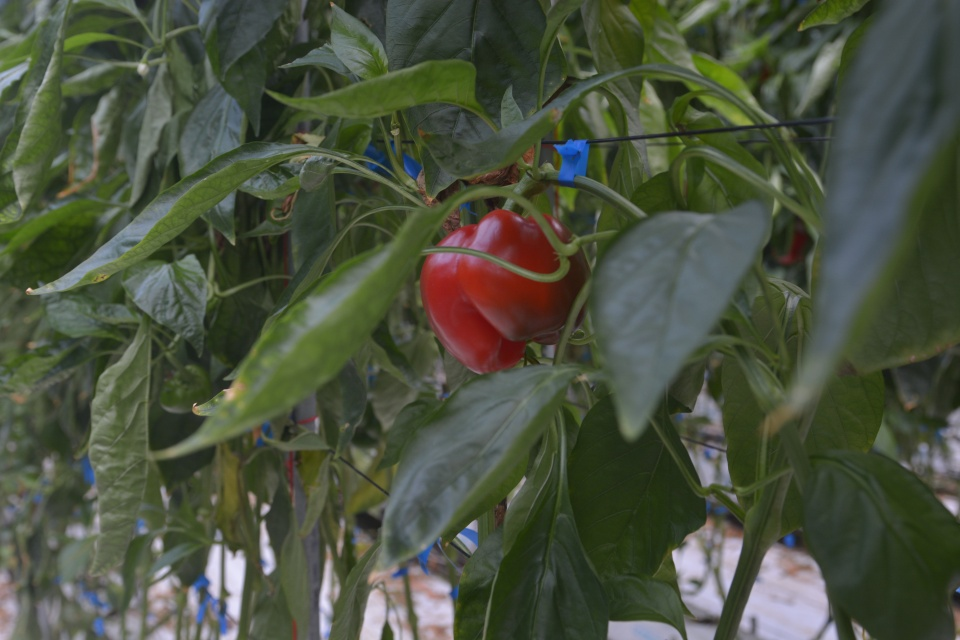fruit: (418, 207, 592, 376)
